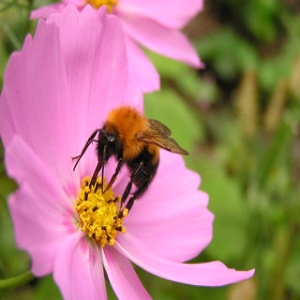bee: (72, 105, 188, 229)
